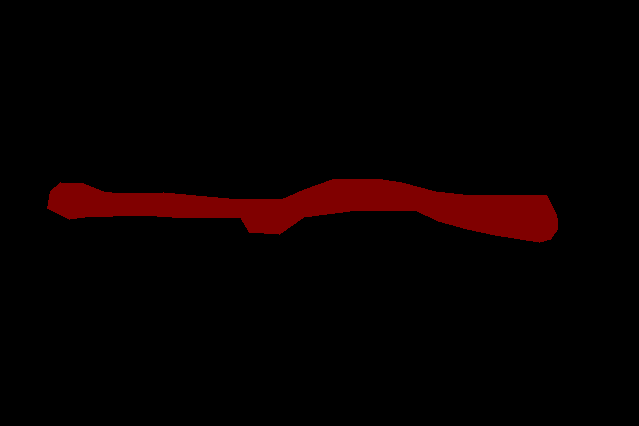fire: (47, 179, 557, 242)
